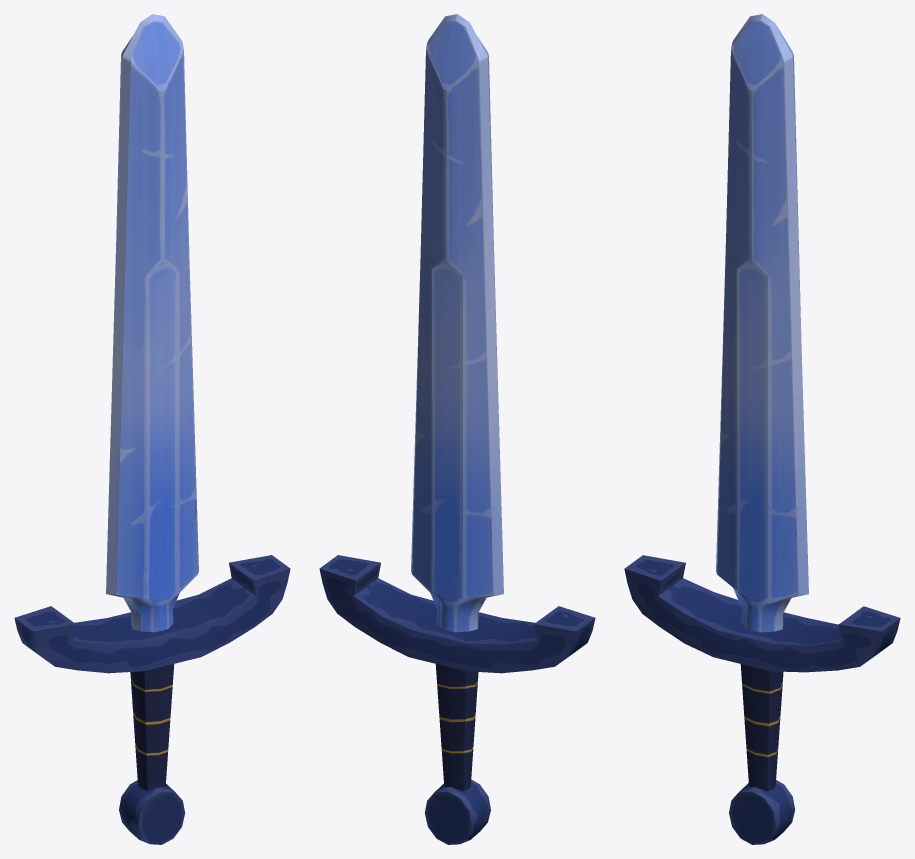
Rendered from sword.glb.
3 views of the same model, side by side, from view 1: azimuth 30°, elevation 25°; view 2: azimuth 150°, elevation 25°; view 3: azimuth 330°, elevation 25° (orthographic).
Parts seen in each view (by area): view 1: Sword3; view 2: Sword3; view 3: Sword3.
Boxes of the visible parts, x1=… form: Sword3: x1=14, y1=14, x2=290, y2=844; Sword3: x1=319, y1=14, x2=595, y2=844; Sword3: x1=624, y1=14, x2=900, y2=844.
Bounding box in the file's own units: 0.4018 × 1.23 × 0.1085.
Materials: 1 (1 with a texture image).
